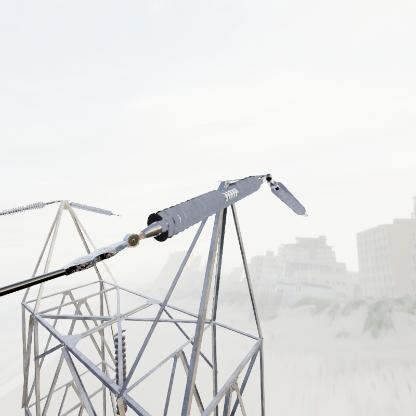insulator: (147, 171, 265, 236), (271, 179, 308, 221), (0, 201, 48, 217), (68, 201, 115, 217)
